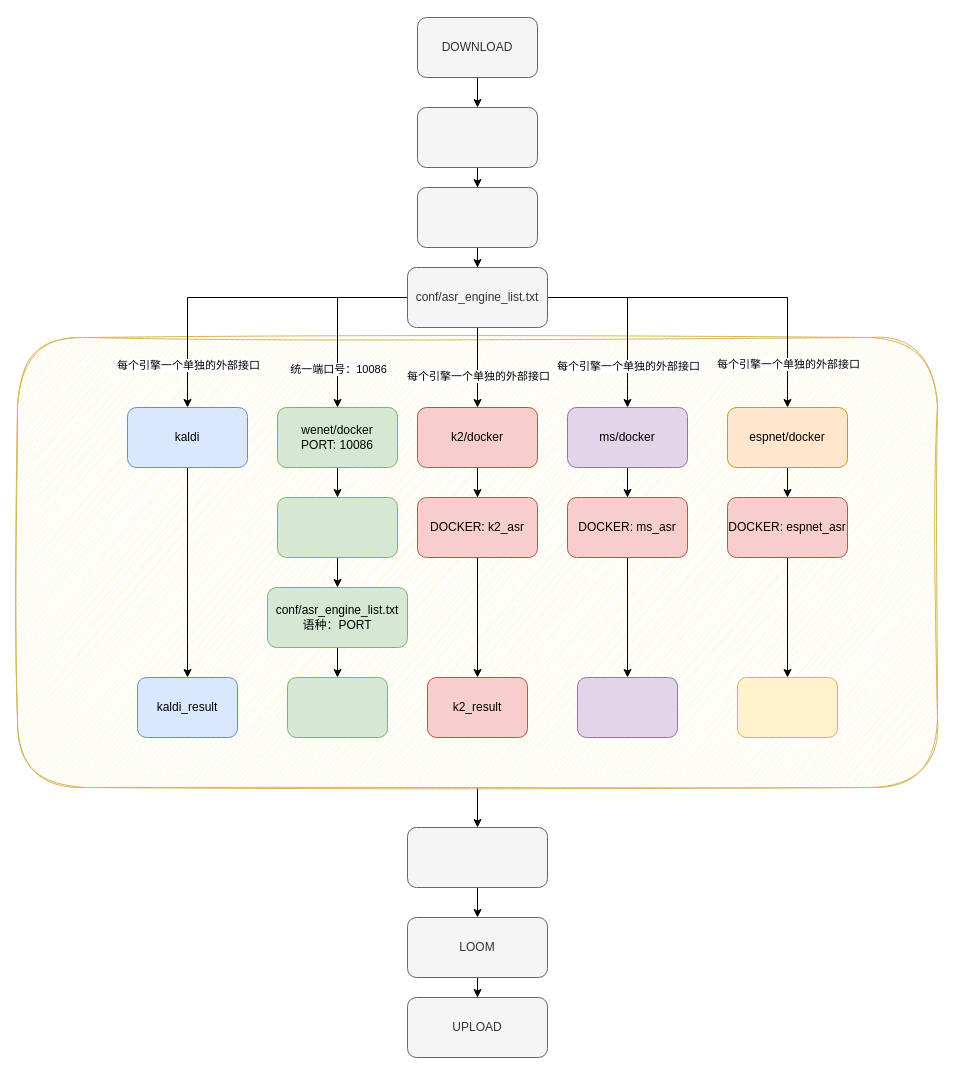
This 955x1075 diagram has some shape labels left out. The shapes that lost their labels are listed below. From the top down, each one's centre as x and y in pixels, then its label:
At (x=477, y=137): "找multistart文件".
At (x=477, y=217): "src/main_script.py".
At (x=337, y=527): "DOCKER: wenet_asr".
At (x=337, y=707): "wenet_result".
At (x=627, y=707): "ms_result".
At (x=787, y=707): "espnet_result".
At (x=477, y=857): "asr_results.txt".
